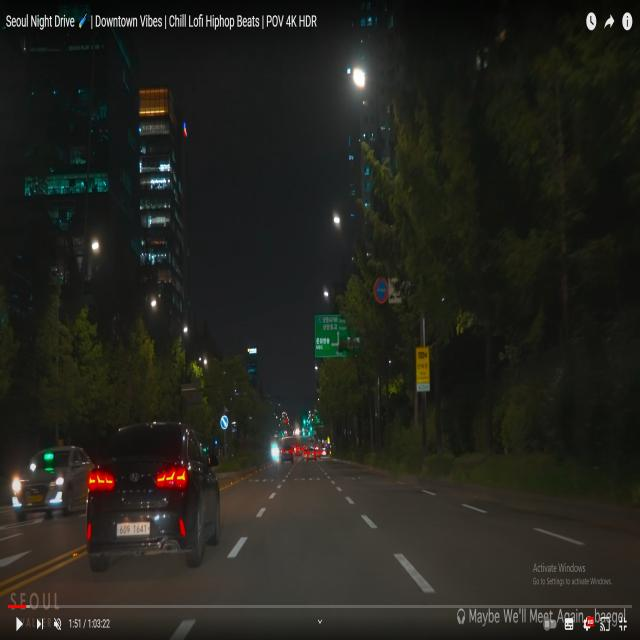headlights: (10, 471, 67, 515)
